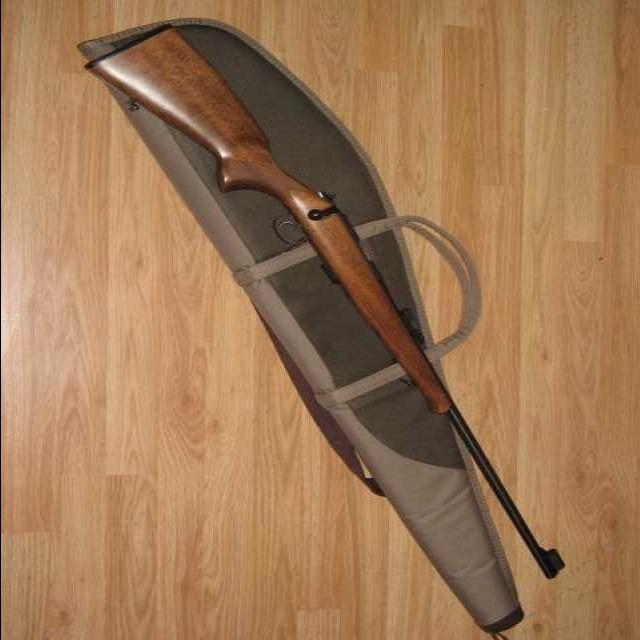heavyweapon: (80, 28, 606, 594)
